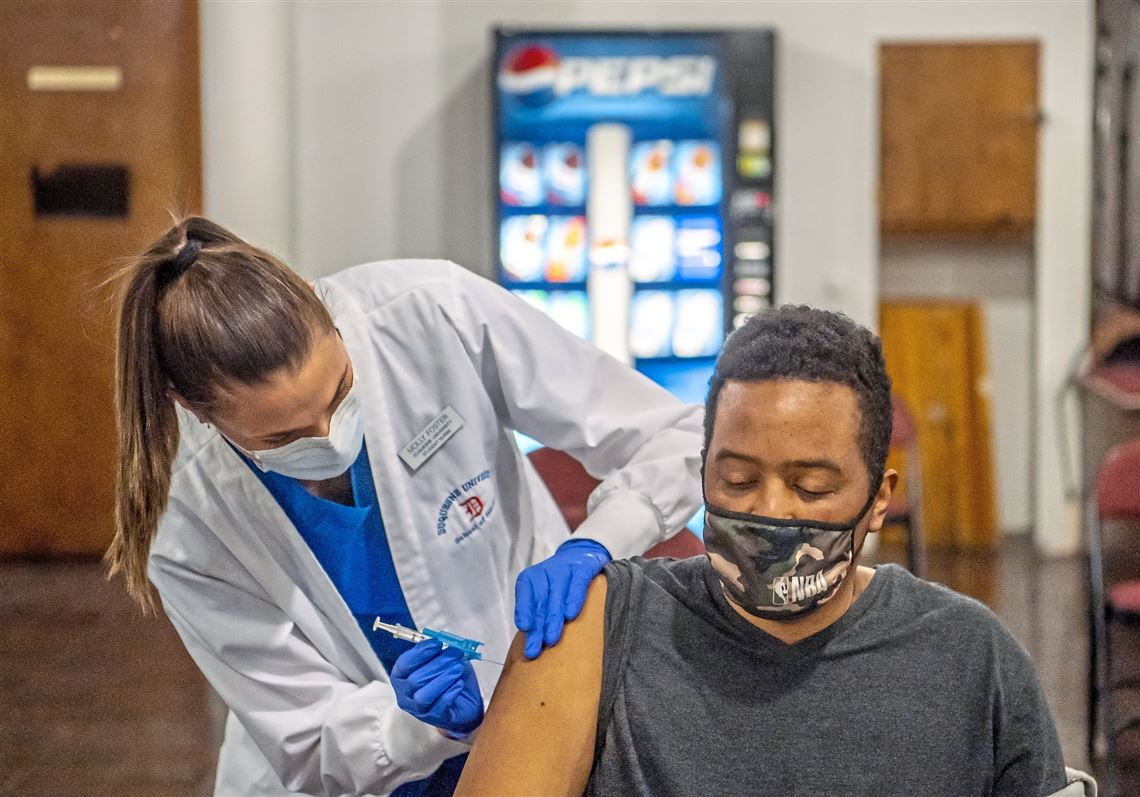with_mask: (705, 430, 850, 608), (244, 386, 355, 480)
